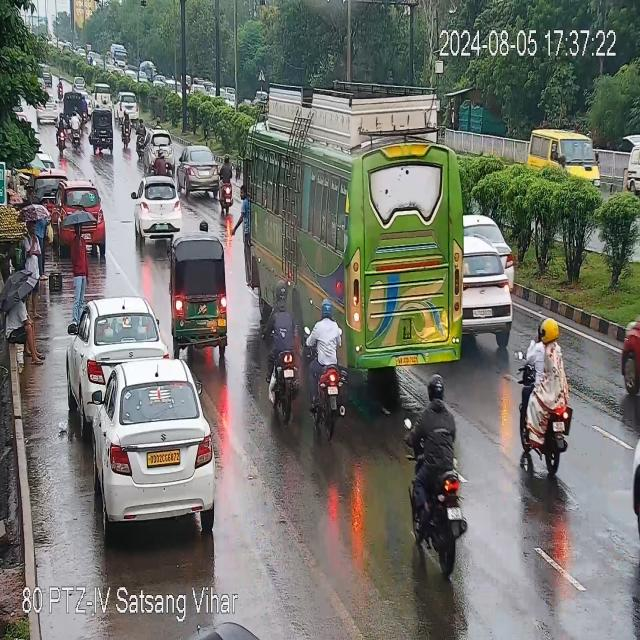2-wheelers: (403, 376, 479, 563), (518, 306, 573, 476), (308, 300, 350, 436), (217, 152, 236, 217), (120, 112, 136, 149), (37, 94, 57, 119), (156, 146, 168, 176), (56, 118, 66, 153), (72, 116, 82, 149), (58, 77, 62, 103)
auto: (167, 229, 235, 358), (91, 105, 114, 157), (625, 126, 640, 204)
bus: (246, 80, 466, 370)
car: (92, 355, 217, 523), (70, 295, 167, 407), (453, 209, 518, 348), (526, 129, 611, 188), (130, 176, 187, 244), (58, 181, 106, 244), (177, 146, 224, 193), (620, 304, 640, 392), (34, 204, 49, 279), (147, 129, 173, 171), (118, 89, 138, 112), (92, 83, 112, 105), (74, 77, 88, 92)
pedestrian: (7, 303, 40, 364), (24, 224, 43, 316), (73, 225, 85, 322)
